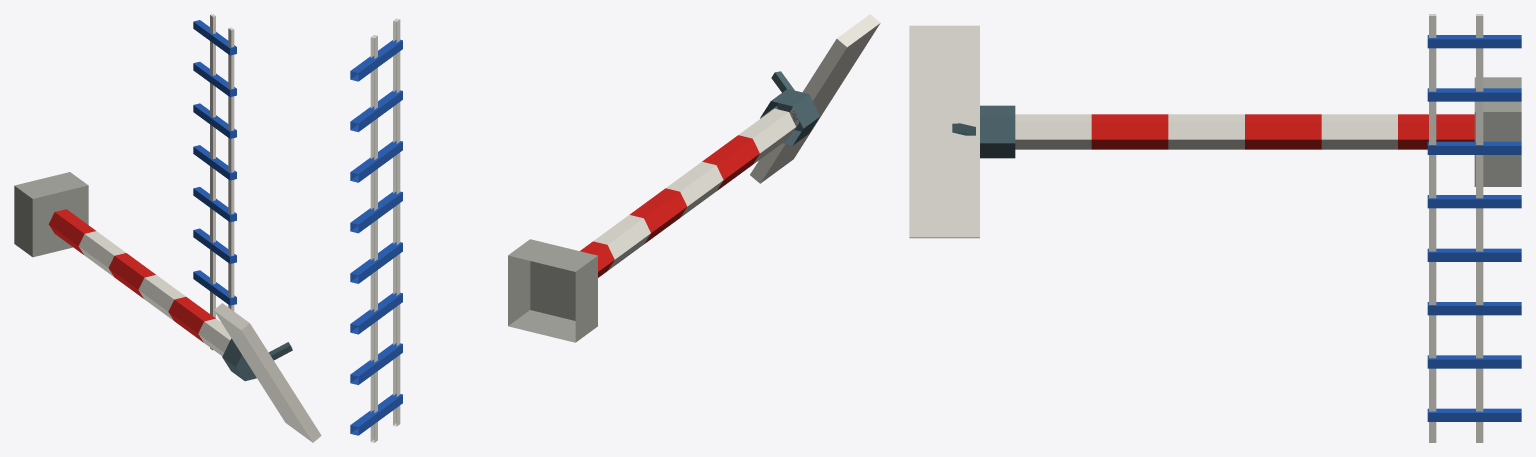
Rendered from frame_10.glb.
3 renders of one model, left to right at view 1: azimuth 30°, elevation 25°; view 2: azimuth 150°, elevation 25°; view 3: azimuth 270°, elevation 25°, orthographic. The views are drawn at different scales.
Visible parts, largest first — view 1: t6_5_g51.010; view 2: t6_5_g51.010; view 3: t6_5_g51.010.
Part boxes in pixels (x1=…): t6_5_g51.010: x1=14, y1=14, x2=321, y2=442; t6_5_g51.010: x1=350, y1=14, x2=880, y2=442; t6_5_g51.010: x1=909, y1=14, x2=1521, y2=442.
Size of the model in its own units: 9.94 by 16 by 20.8.
